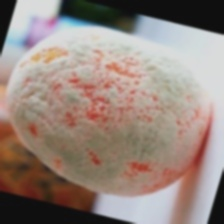orange: (40, 59, 200, 200)
